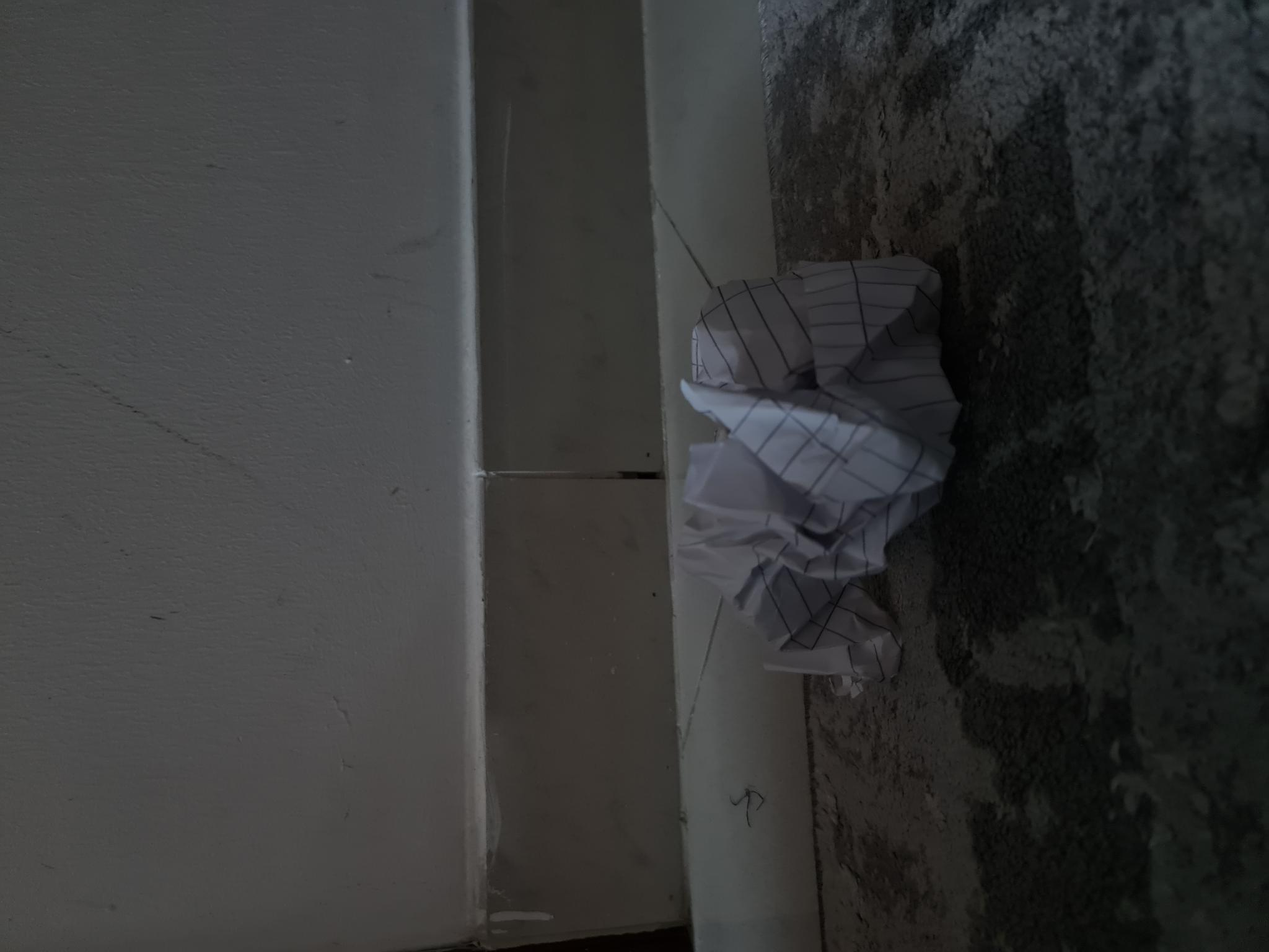Kertas: (259, 676, 695, 952)
